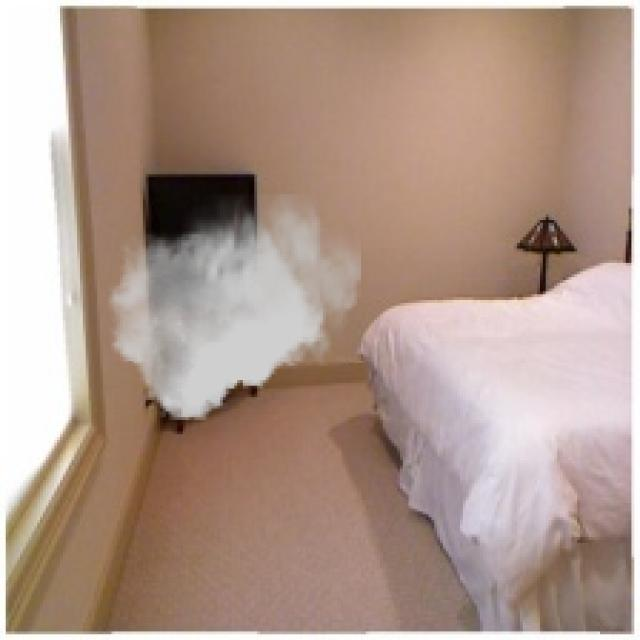smoke: (109, 194, 360, 420)
